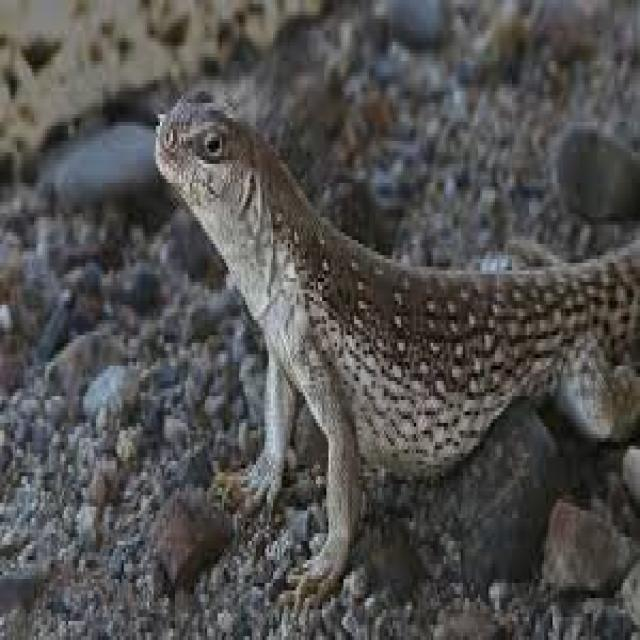Lizard: (150, 84, 640, 550)
